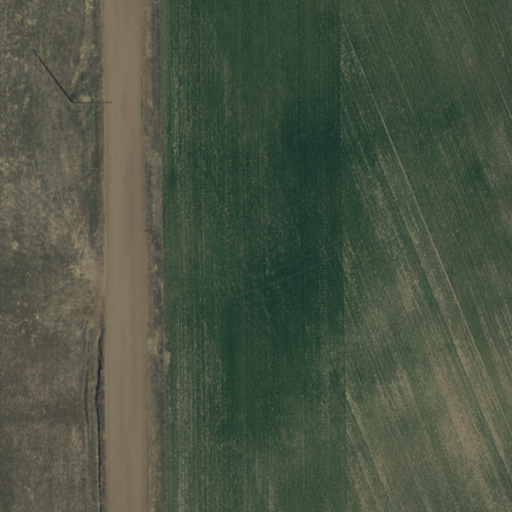DT: (66, 85, 116, 118)
